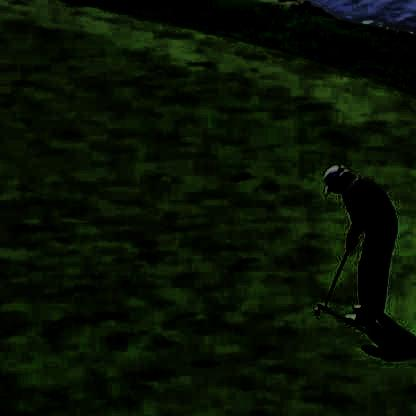golfball: (310, 303, 317, 310)
